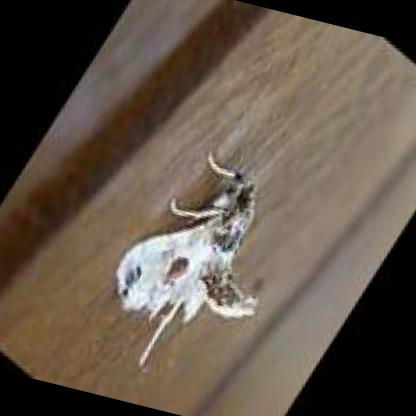leucinodes: (113, 174, 263, 327)
